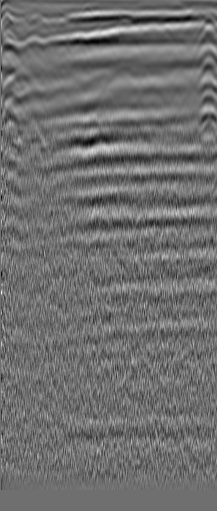오수: (22, 29, 47, 55)
우수: (172, 18, 192, 38)
